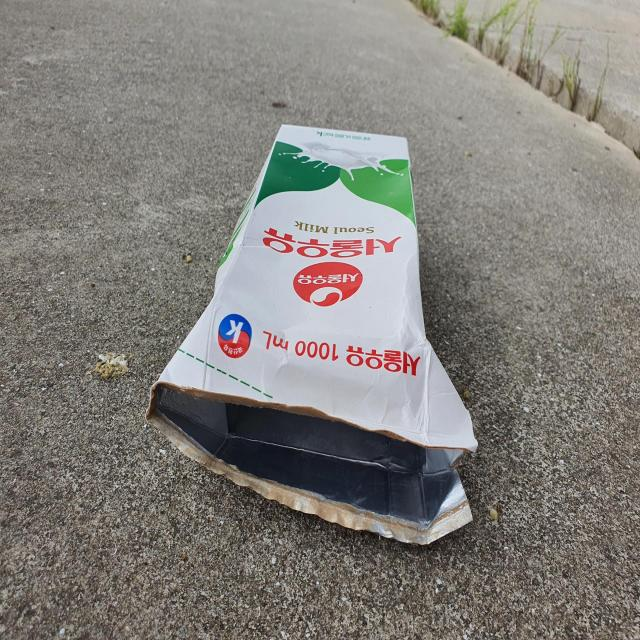paperpack: (147, 124, 477, 545)
